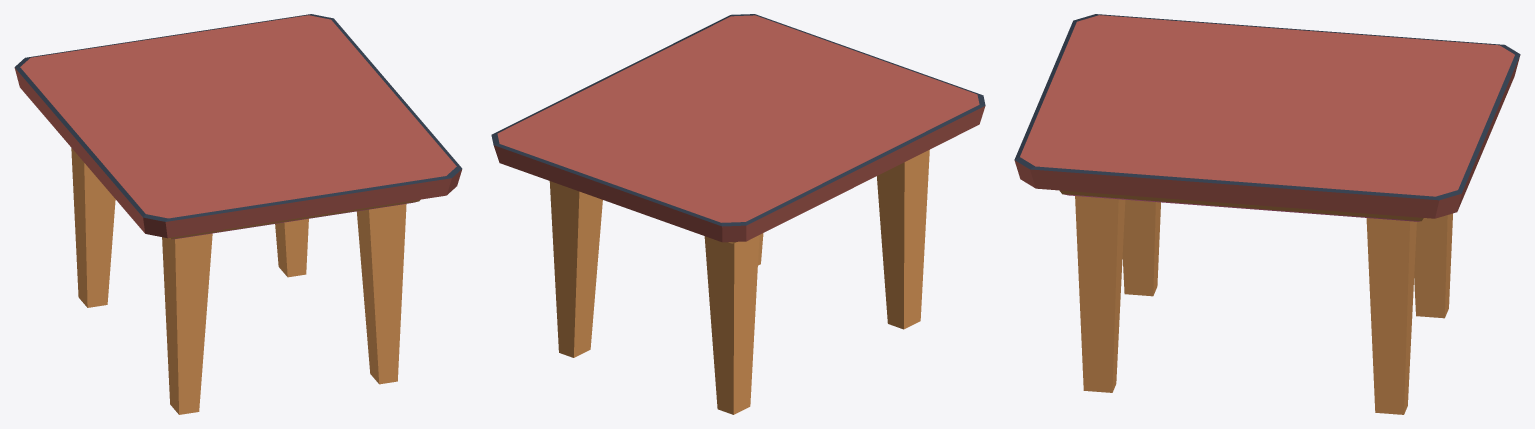
Rendered from SM_Table_01_Experiments.fbx.
3 renders of one model, left to right at view 1: azimuth 30°, elevation 25°; view 2: azimuth 150°, elevation 25°; view 3: azimuth 270°, elevation 25°, orthographic. The views are drawn at different scales.
Visible parts, largest first — view 1: SM_Table_01_Experiments; view 2: SM_Table_01_Experiments; view 3: SM_Table_01_Experiments.
Part boxes in pixels (x1,y1,x2,y2): SM_Table_01_Experiments: (14,14,462,414); SM_Table_01_Experiments: (491,14,985,414); SM_Table_01_Experiments: (1014,14,1520,414).
Size of the model in its own units: 199 by 121 by 228.
